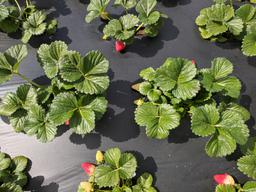green strawberry: (131, 82, 148, 92), (95, 149, 104, 163), (134, 99, 146, 105)
red strawberry: (213, 172, 237, 187), (81, 162, 97, 176), (115, 39, 125, 52)
